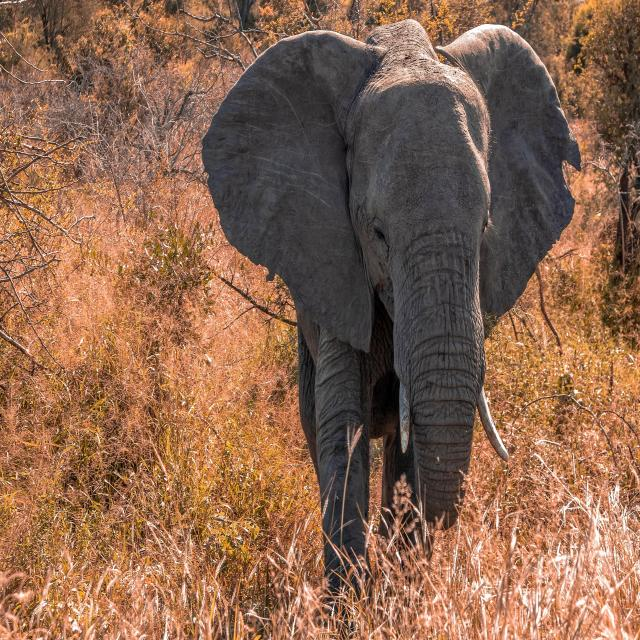Elephant: (208, 16, 592, 583)
